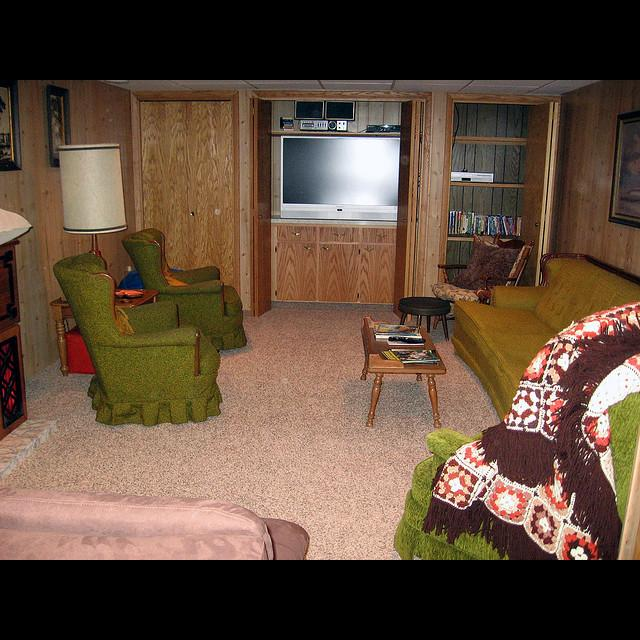Flat-Panel-TV: (278, 136, 409, 224)
TV-Remote-Control: (386, 341, 425, 345), (387, 337, 410, 341)
